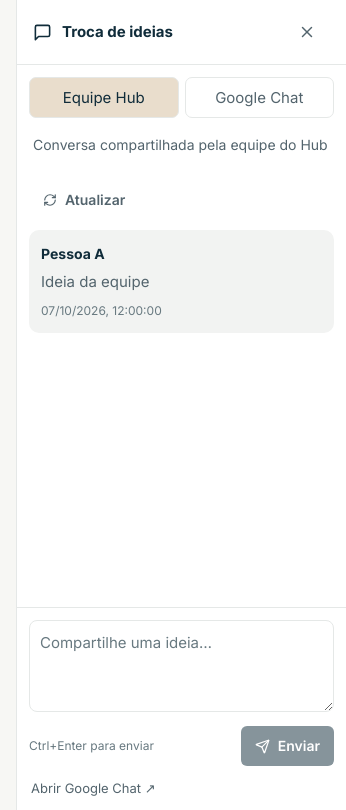
Scenario: envia mensagem da equipe e mostra configuração pendente sem simular conexão Google
Expected: the text "Ideia da equipe" is shown, [41,272,149,291]
In the text box named "Mensagem para troca de ideias": (182, 666) [29,620,334,712], type "Vamos revisar o memorando"
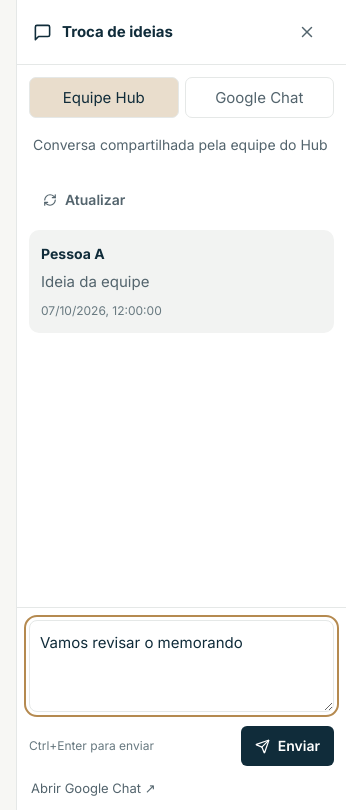
Click the button with aria-label "Enviar mensagem": (287, 746) [241,726,334,766]
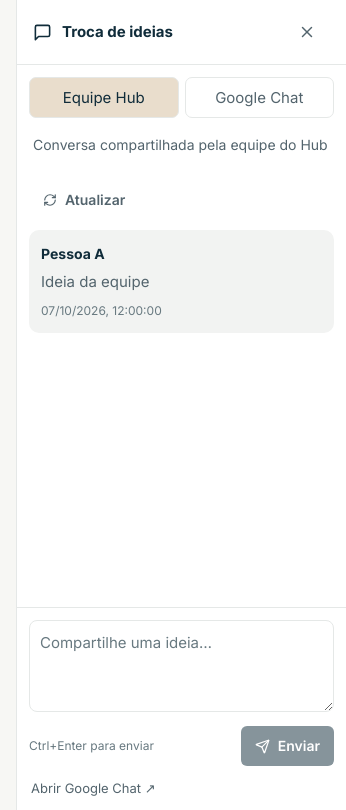
Click the button "Google Chat": (259, 98) [184,77,334,118]
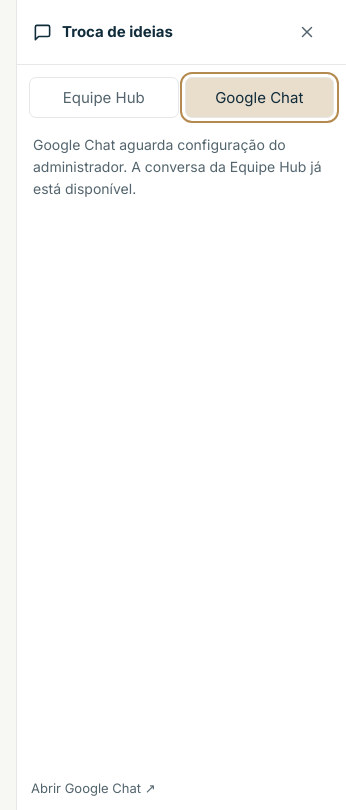
Expected: the text "aguarda configuração" is shown, [33,136,322,197]
